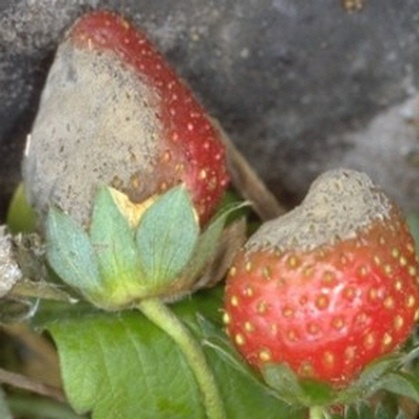Gray_Mold: (189, 121, 400, 396), (3, 140, 236, 254)
